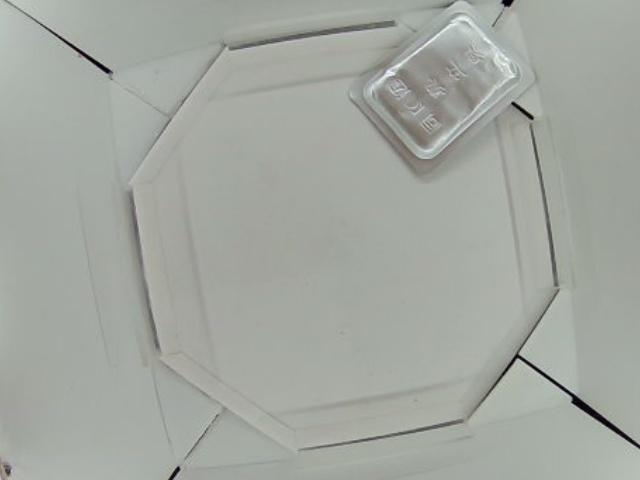Medicine: (347, 2, 539, 173)
